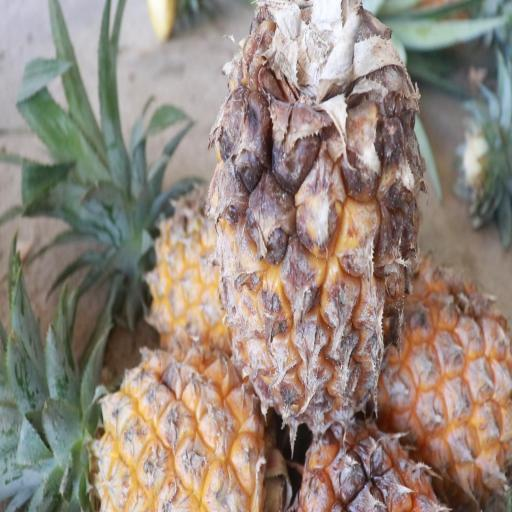Pineapple - v8 v1: (208, 0, 422, 440), (54, 294, 270, 512), (361, 254, 512, 512)
